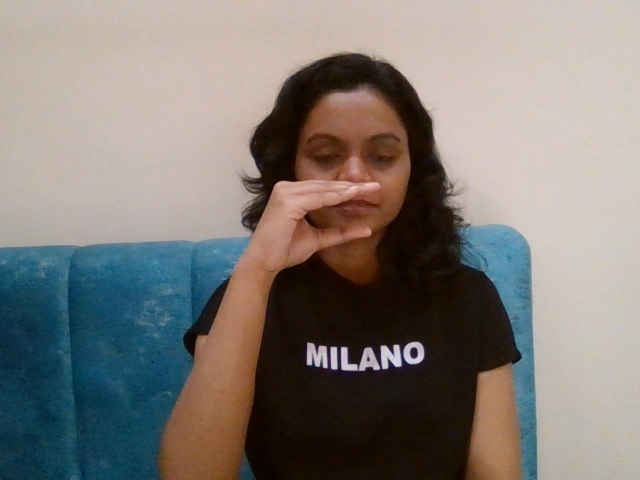Short: (220, 170, 411, 295)
